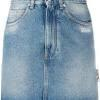skirt: (4, 0, 95, 99)
